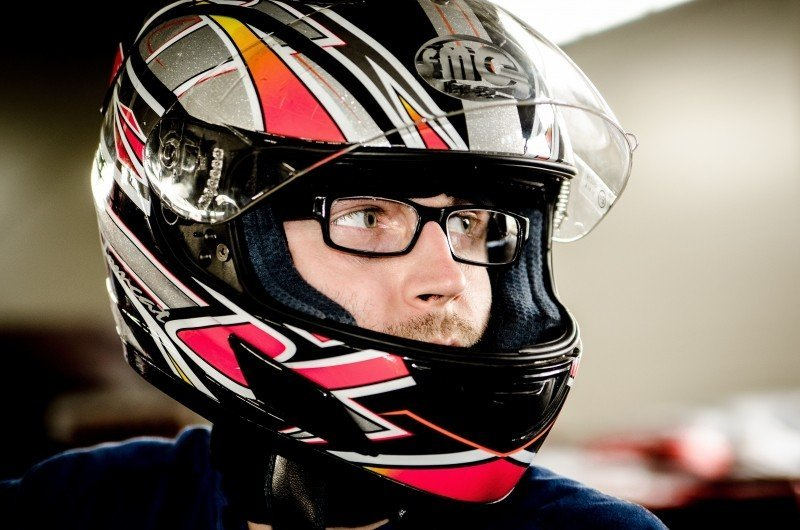helmet: (115, 4, 631, 502)
